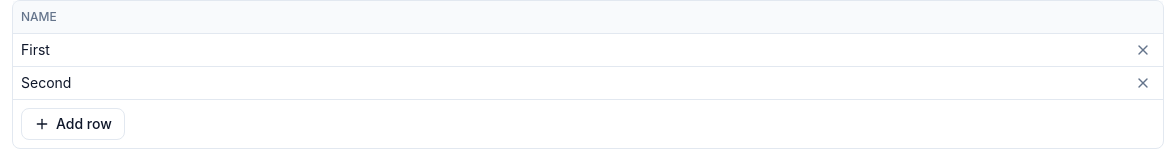
PasteGrid › removing a row drops exactly that row
The width and height of the screenshot is (1164, 166).
Click the button named "Remove row 1" at (1143, 50), box left=1131, top=38, right=1155, bottom=62
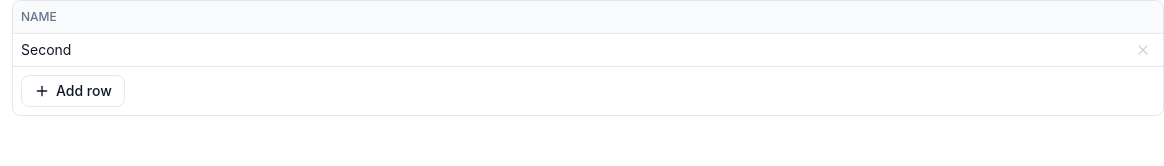
Expected: the field showing "First" is not shown
Result: the field showing "Second" is shown at left=13, top=34, right=1123, bottom=66
